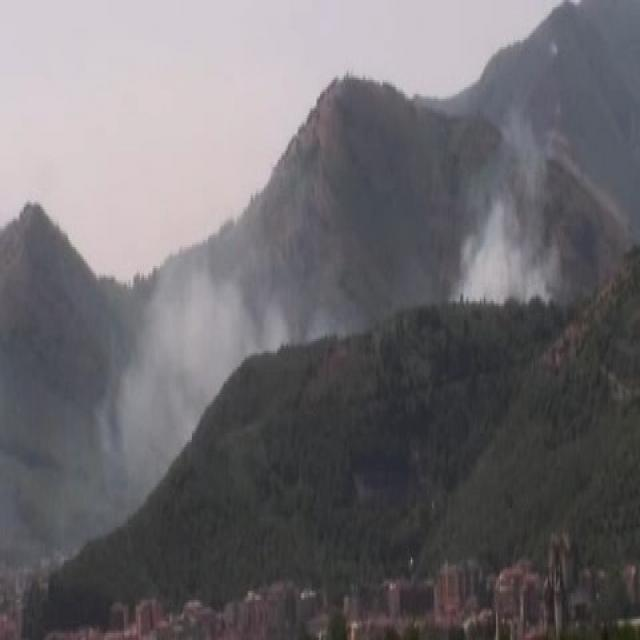smoke: (105, 250, 246, 446), (445, 133, 544, 304)
